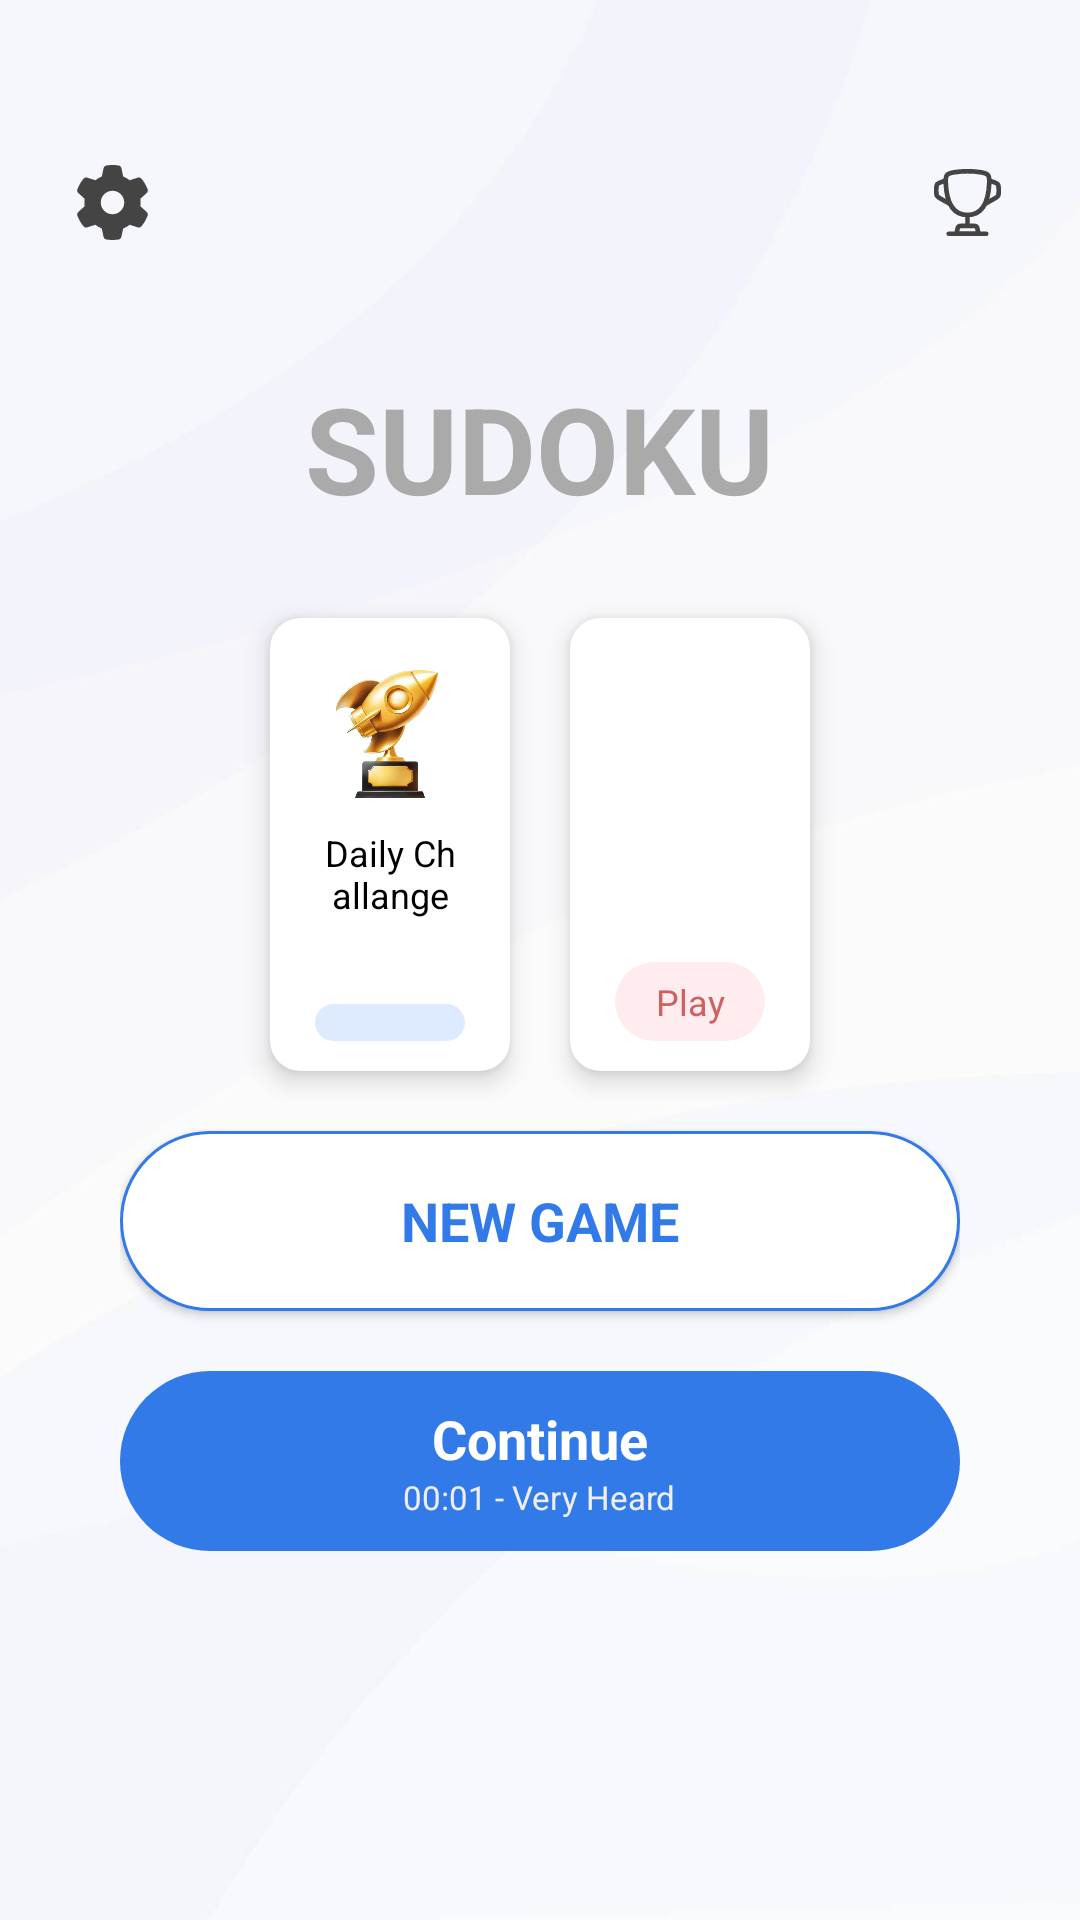

Screen size 1080w x 1920h. Icon name, then its center in pixels as point (x, y):
Cup: point (967, 202), point (387, 734)
Settings: point (112, 202)
